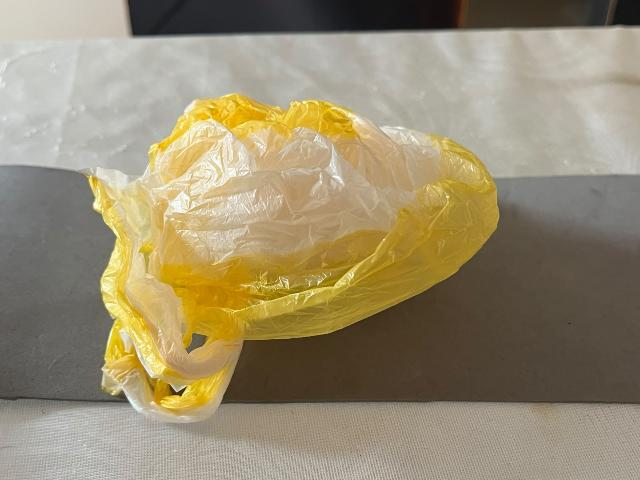LDPE: (32, 71, 567, 443)
